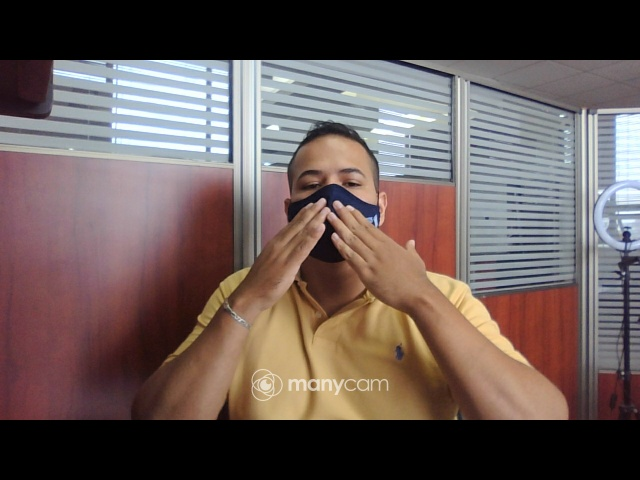Thanks: (217, 197, 468, 309)
